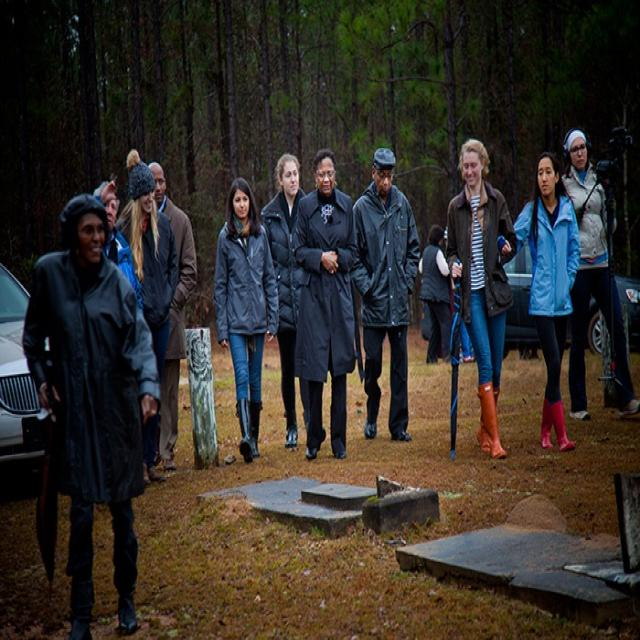body: (19, 191, 164, 638), (494, 148, 582, 455), (552, 120, 639, 424), (442, 134, 520, 462), (113, 147, 180, 489), (348, 144, 422, 444), (292, 145, 360, 462), (212, 173, 282, 466), (261, 152, 327, 448), (147, 158, 200, 474), (92, 175, 144, 318), (417, 222, 452, 366), (459, 310, 475, 364)
